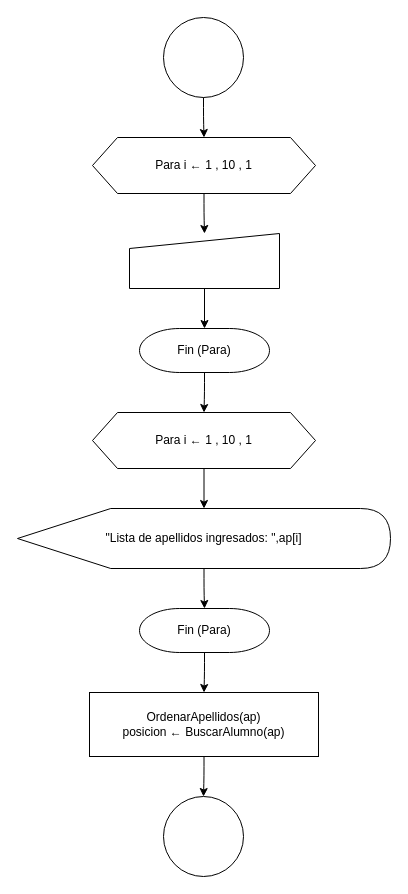
This 408x894 diagram has some shape labels left out. The centre of each missing label's shape, as x and y in pixels:
"ap[i]" belongs at pixel 204 260.
"Fin" belongs at pixel 203 836.
"Inicio" belongs at pixel 203 57.
